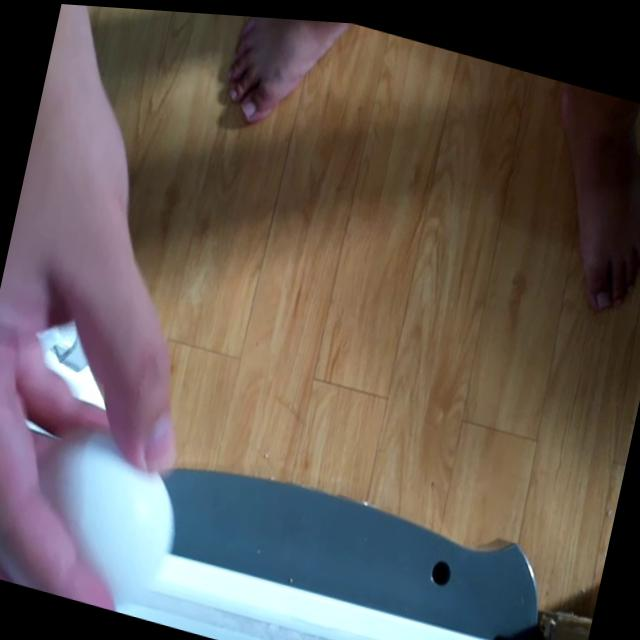egg: (14, 414, 188, 606)
